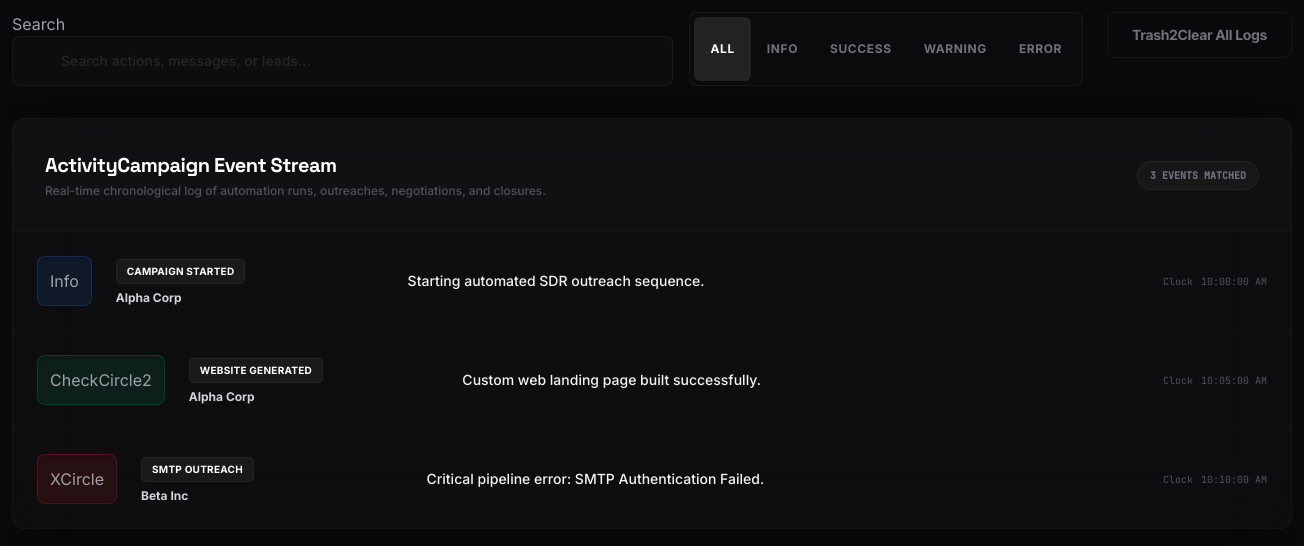
Test: CampaignLogs › searches logs dynamically
This screenshot has width=1304, height=546.
Type "Beta" into the field with placeholder "Search actions, messages, or leads..." at [343, 61], box [12,36,674,86]
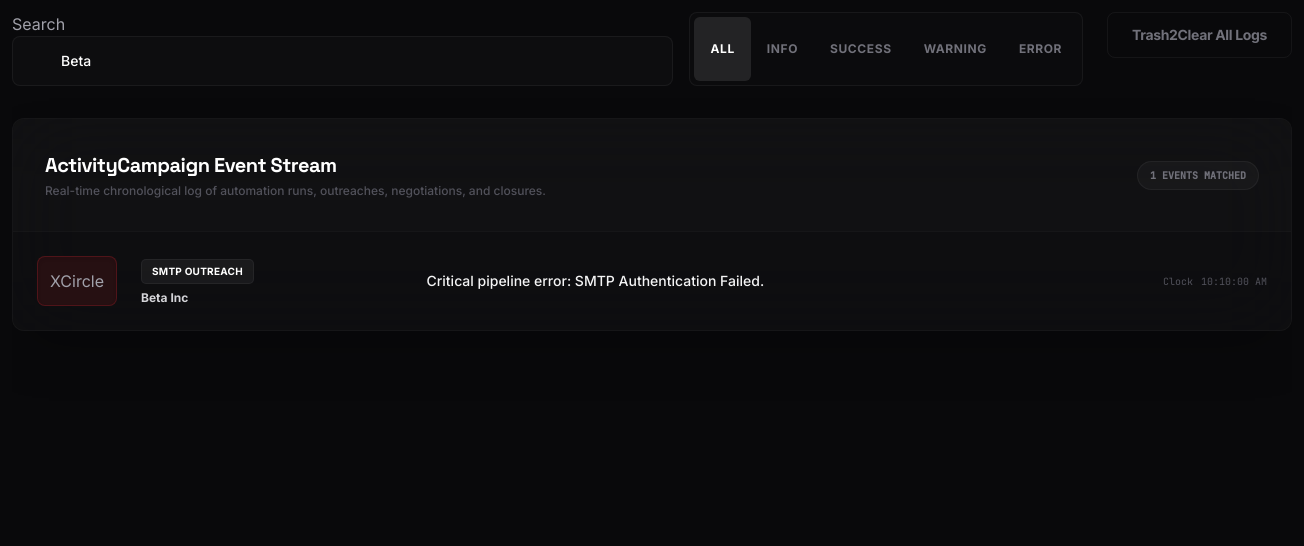
Expected: the text "Critical pipeline error: SMTP Authentication Failed." is shown, [426,272,764,289]
Result: the text "Starting automated SDR outreach sequence." is gone
